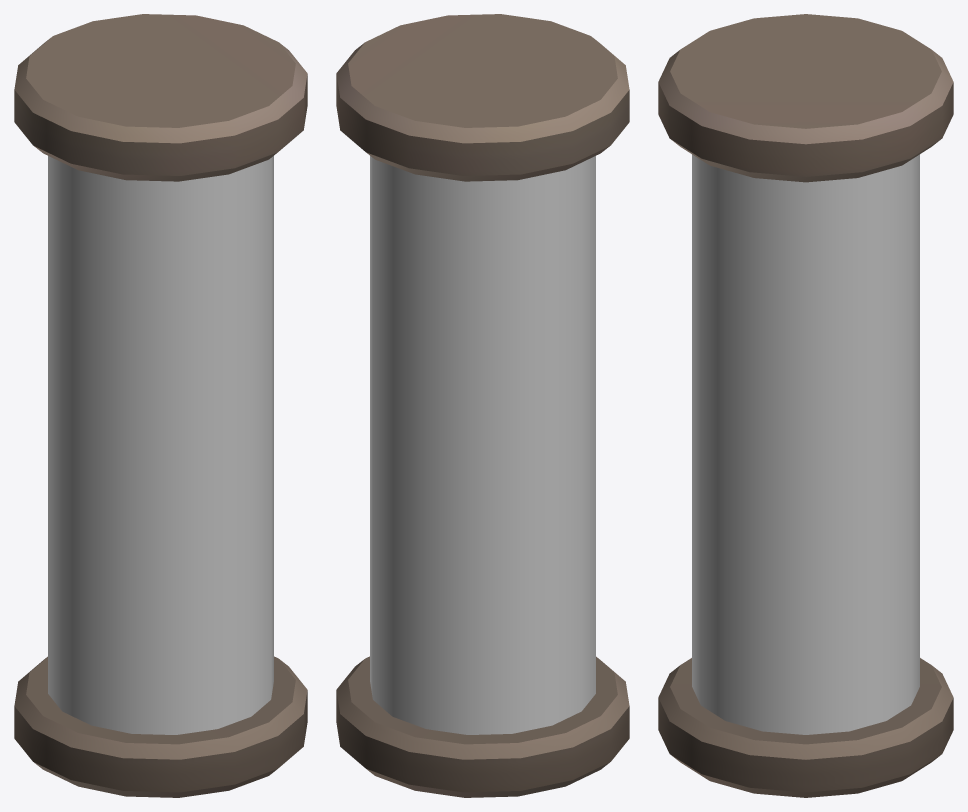
File: board.hourglass.glb
3 views of the same model, side by side, from view 1: azimuth 30°, elevation 25°; view 2: azimuth 150°, elevation 25°; view 3: azimuth 270°, elevation 25° (orthographic).
Visible parts, largest first — view 1: hourglass; view 2: hourglass; view 3: hourglass.
Part boxes in pixels (<box>): hourglass: <box>14,14,307,797</box>; hourglass: <box>336,14,629,797</box>; hourglass: <box>658,14,953,797</box>.
Bounding box in the file's own units: 0.0267 × 0.0667 × 0.0267.
2 materials, 1 textured.
